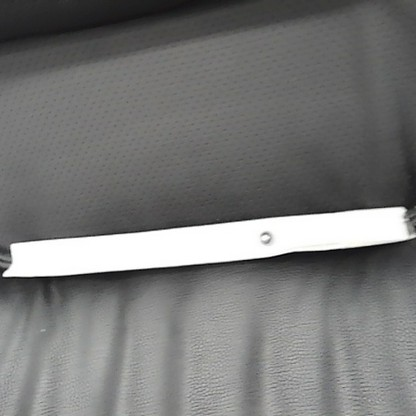ironball: (257, 229, 273, 246)
